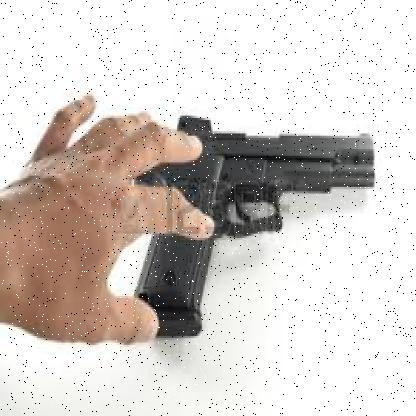pistol: (116, 113, 378, 331)
